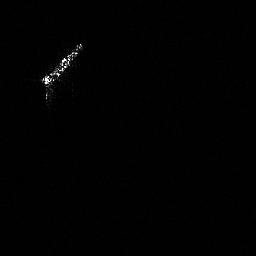ship: (37, 39, 86, 102)
